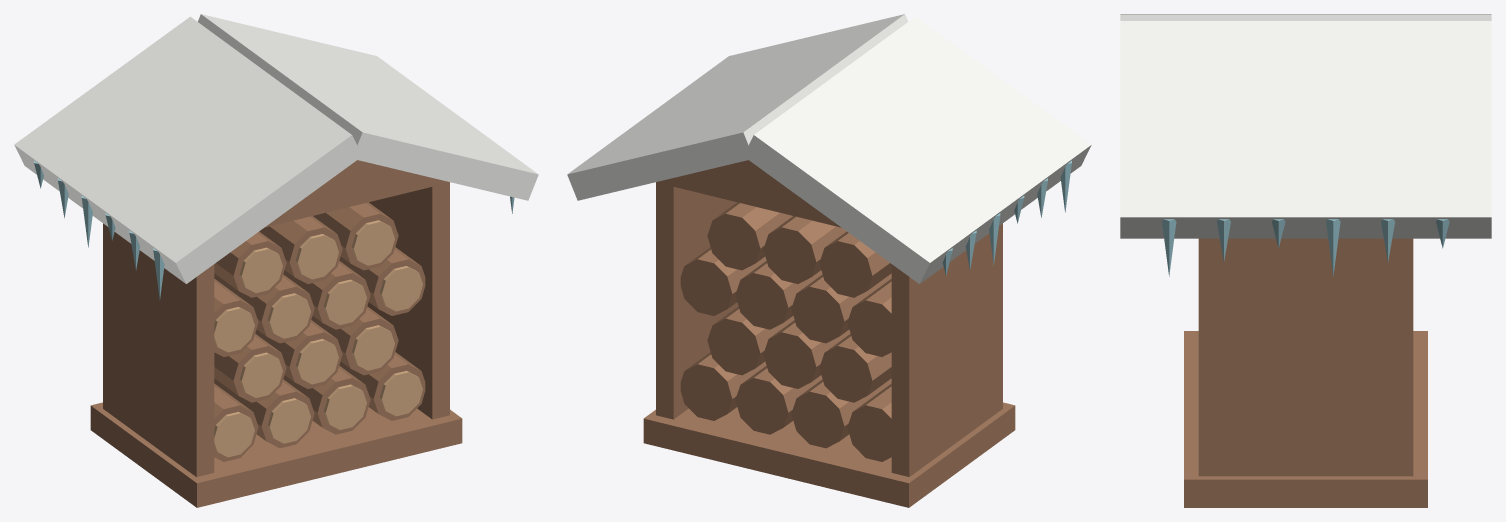
The model's file is winter-hearth-village-covered-log-store-0af5356f__21826.glb.
3 renders of one model, left to right at view 1: azimuth 30°, elevation 25°; view 2: azimuth 150°, elevation 25°; view 3: azimuth 270°, elevation 25°, orthographic. The views are drawn at different scales.
Visible parts, largest first — view 1: covered-log-store-wood, covered-log-store-snow, covered-log-store-cedar, covered-log-store-ice; view 2: covered-log-store-wood, covered-log-store-snow, covered-log-store-ice; view 3: covered-log-store-snow, covered-log-store-wood, covered-log-store-ice.
Part boxes in pixels (x1,y1,x2,y2): covered-log-store-wood: (90,160,462,507); covered-log-store-snow: (14,14,538,283); covered-log-store-cedar: (214,220,422,457); covered-log-store-ice: (34,161,514,300); covered-log-store-wood: (643,160,1015,507); covered-log-store-snow: (567,14,1091,283); covered-log-store-ice: (942,161,1071,275); covered-log-store-snow: (1120,14,1491,238); covered-log-store-wood: (1184,238,1427,507); covered-log-store-ice: (1162,219,1449,276).
Size of the model in its own units: 2.48 by 2.35 by 1.9.
